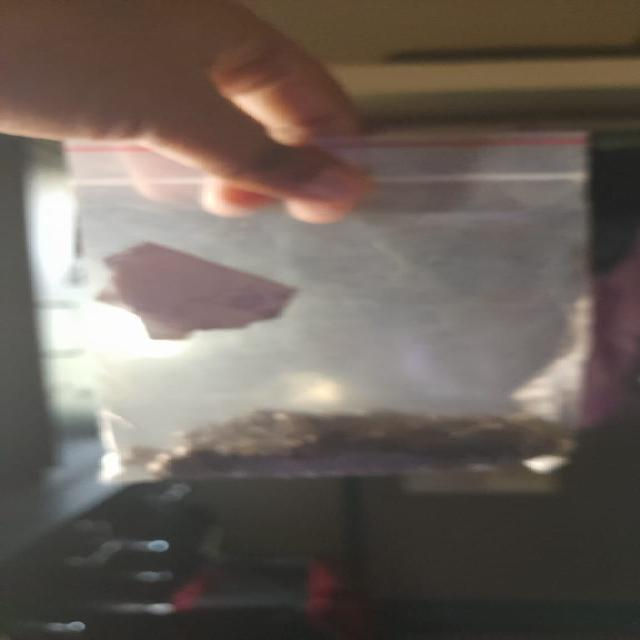Plastic - Recyclable: (56, 126, 626, 520)
